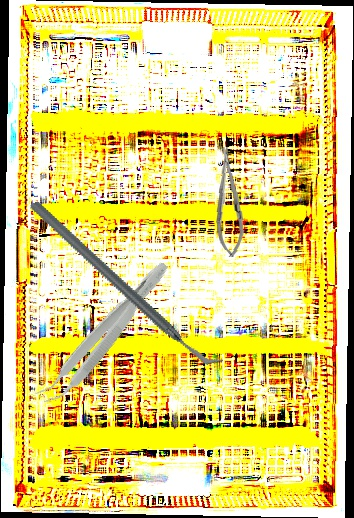Chopper: (29, 158, 224, 410)
Needle Holder: (212, 146, 246, 258)
Tissue Forceps: (32, 252, 175, 413)
